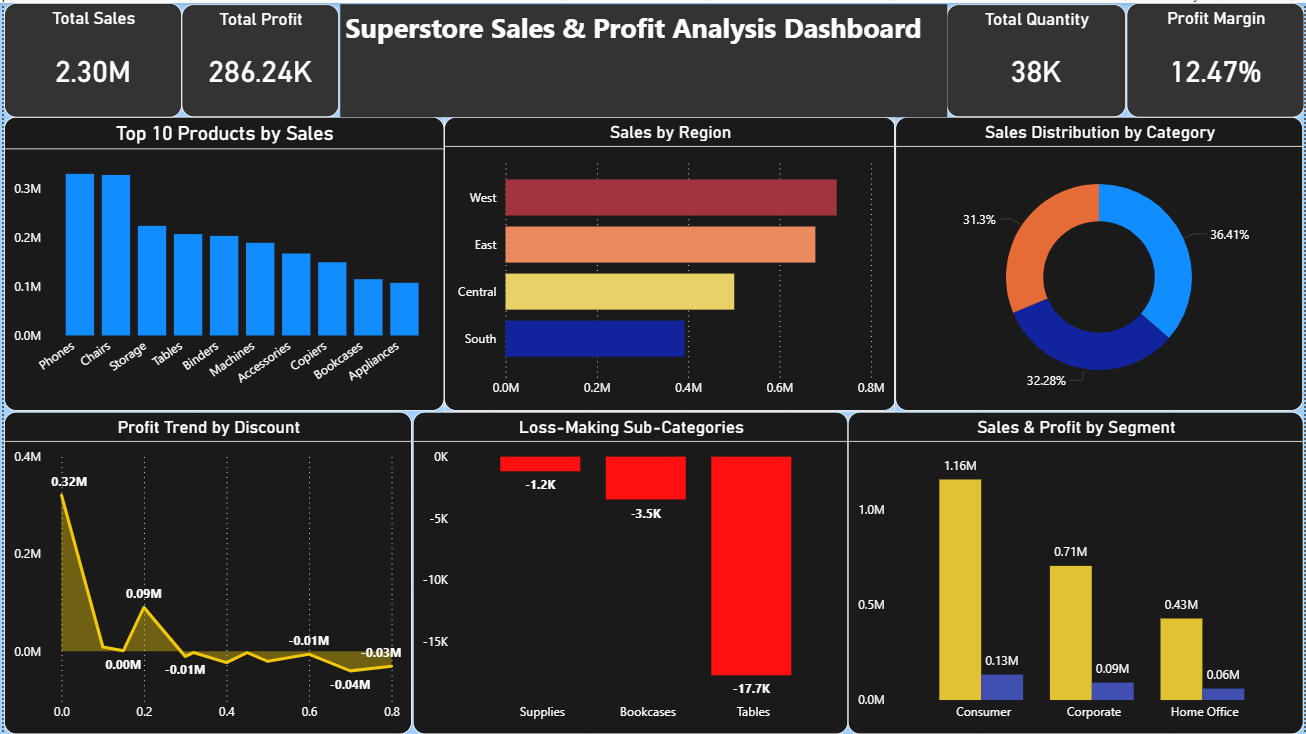

This screenshot's page, from the dashboard's own definition file:
{"tool":"powerbi","page":{"name":"Dashboard","canvas":[1280,720],"ordinal":0},"visuals":[{"type":"columnChart","title":"Top 10 Products by Sales","fields":{"Category":["SampleSuperstore.Sub-Category"],"Y":["Sum(SampleSuperstore.Sales)"]},"box":[0,112.6,433.3,289.4],"z":0},{"type":"clusteredBarChart","title":"Sales by Region","fields":{"Y":["Sum(SampleSuperstore.Sales)"],"Category":["SampleSuperstore.Region"]},"box":[433.3,112.6,444.7,289.4],"z":1000},{"type":"donutChart","title":"Sales Distribution by Category","fields":{"Category":["SampleSuperstore.Category"],"Y":["Sum(SampleSuperstore.Sales)"]},"box":[878,112.6,402,289.4],"z":2000},{"type":"areaChart","title":"Profit Trend by Discount","fields":{"Category":["SampleSuperstore.Discount"],"Y":["Sum(SampleSuperstore.Profit)"]},"box":[0,402,402,317.9],"z":3000},{"type":"clusteredColumnChart","title":"Loss-Making Sub-Categories","fields":{"Category":["SampleSuperstore.Sub-Category"],"Y":["Sum(SampleSuperstore.Profit)"]},"box":[402,402,429,317.9],"z":4000},{"type":"clusteredColumnChart","title":" Sales & Profit by Segment","fields":{"Y":["Sum(SampleSuperstore.Sales)","Sum(SampleSuperstore.Profit)"],"Category":["SampleSuperstore.Segment"]},"box":[831,402,449,317.9],"z":5000},{"type":"card","title":"Total Sales","fields":{"Values":["Sum(SampleSuperstore.Sales)"]},"box":[0,0,175.3,112.6],"z":6000},{"type":"card","title":"Total Profit","fields":{"Values":["Sum(SampleSuperstore.Profit)"]},"box":[175.3,1.4,155.4,111.2],"z":7000},{"type":"card","title":"Total Quantity","fields":{"Values":["Sum(SampleSuperstore.Quantity)"]},"box":[927.9,1.4,176.7,111.2],"z":8000},{"type":"card","title":"Profit Margin","fields":{"Values":["SampleSuperstore.Profit Margin"]},"box":[1104.7,0,175.3,112.6],"z":9000},{"type":"textbox","title":"Superstore Sales & Profit Analysis Dashboard","box":[330.7,1.4,597.2,111.2],"z":10000}]}

Visuals, with their boxes in screenshot pixels (x1, y1, x2, y2), scaled from the page's 1280x720 canvas onto the 1306x734 screenshot:
"Top 10 Products by Sales" columnChart: crop(0, 115, 442, 410)
"Sales by Region" clusteredBarChart: crop(442, 115, 896, 410)
"Sales Distribution by Category" donutChart: crop(896, 115, 1305, 410)
"Profit Trend by Discount" areaChart: crop(0, 410, 410, 733)
"Loss-Making Sub-Categories" clusteredColumnChart: crop(410, 410, 848, 733)
" Sales & Profit by Segment" clusteredColumnChart: crop(848, 410, 1305, 733)
"Total Sales" card: crop(0, 0, 179, 115)
"Total Profit" card: crop(179, 1, 337, 115)
"Total Quantity" card: crop(947, 1, 1127, 115)
"Profit Margin" card: crop(1127, 0, 1305, 115)
"Superstore Sales & Profit Analysis Dashboard" textbox: crop(337, 1, 947, 115)
